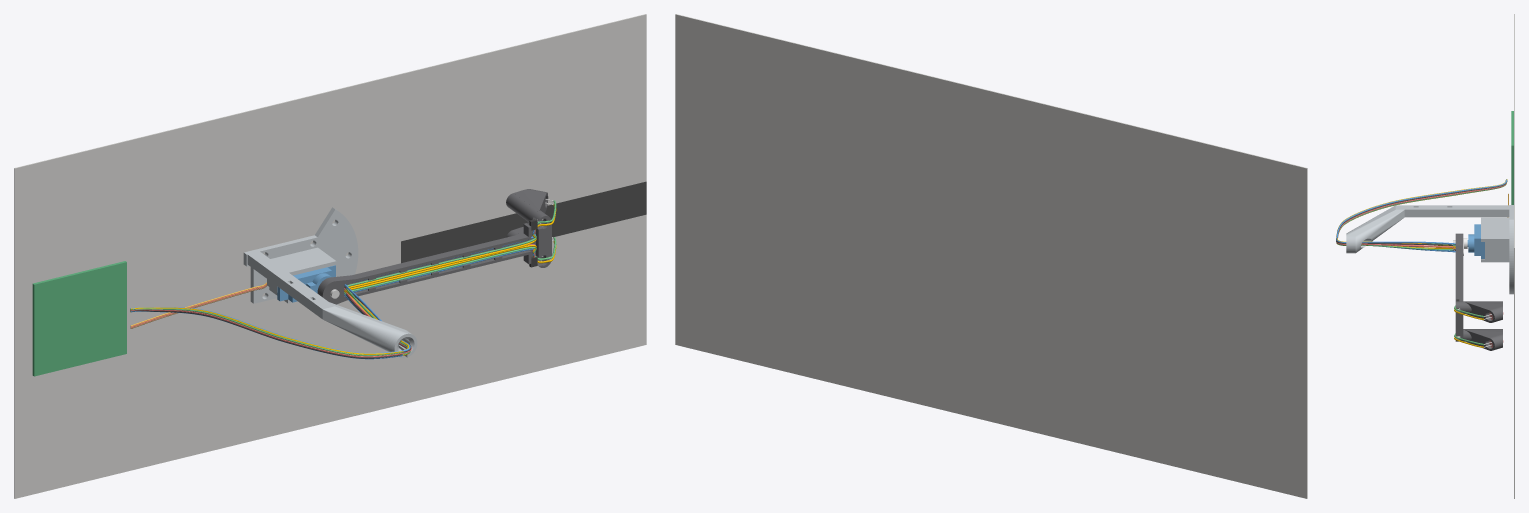
File: ensamble_3D.glb
3 views of the same model, side by side, from view 1: azimuth 30°, elevation 25°; view 2: azimuth 150°, elevation 25°; view 3: azimuth 270°, elevation 25° (orthographic). The views are drawn at different scales.
Parts seen in each view (by area): view 1: piso, placa, base, linea, brazo, cable_9, cable_8, servo; view 2: piso; view 3: base, brazo, cable_6, cable_7, cable_4, cable_5, piso, servo, cable_8, placa, cable_3.
Part boxes in pixels (x1,y1,x2,y2): piso: [14, 14, 646, 498]; placa: [32, 261, 126, 376]; base: [243, 207, 417, 358]; linea: [401, 181, 646, 263]; brazo: [317, 189, 551, 304]; cable_9: [130, 200, 556, 356]; cable_8: [130, 204, 556, 354]; servo: [277, 265, 335, 302]; piso: [675, 14, 1307, 498]; base: [1346, 205, 1513, 294]; brazo: [1455, 233, 1502, 350]; cable_6: [1336, 182, 1506, 245]; cable_7: [1336, 179, 1506, 244]; cable_4: [1336, 181, 1507, 345]; cable_5: [1336, 182, 1506, 247]; piso: [1514, 14, 1514, 498]; servo: [1467, 224, 1484, 258]; cable_8: [1336, 179, 1507, 320]; placa: [1511, 111, 1513, 204]; cable_3: [1337, 184, 1506, 347].
Size of the model in its own units: 360 by 180 by 116.
